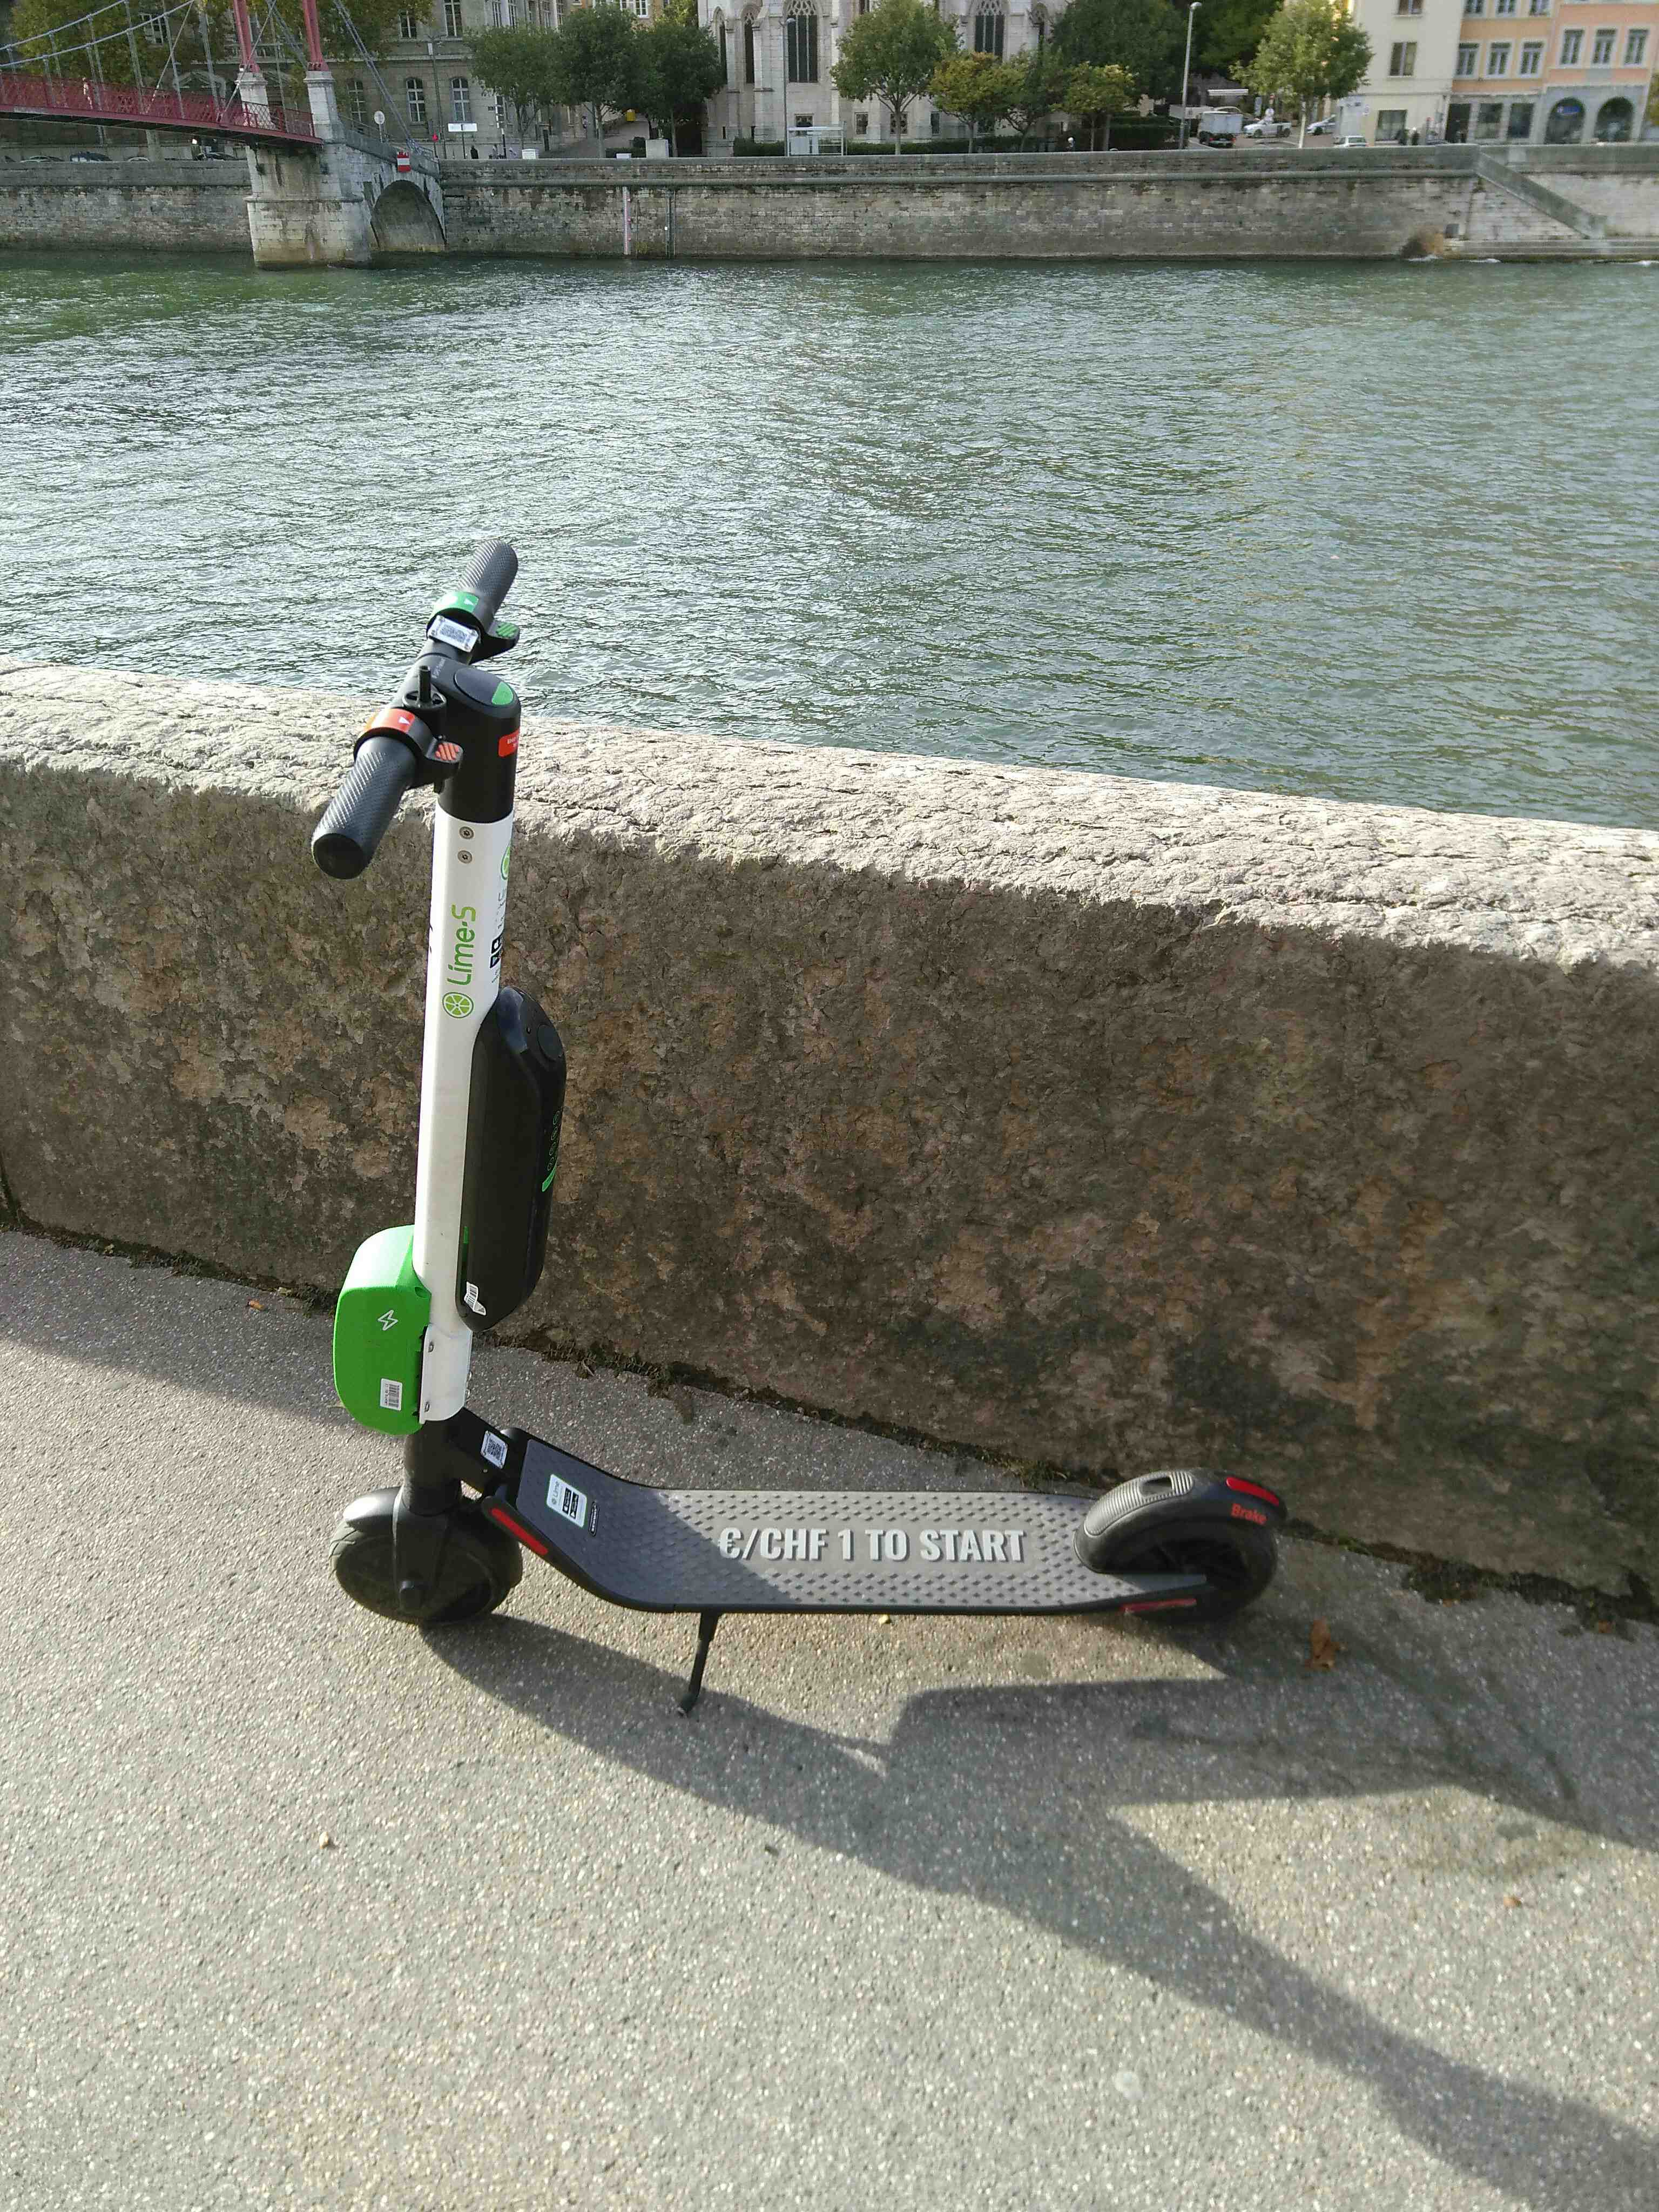scooter: (267, 489, 1324, 1714)
